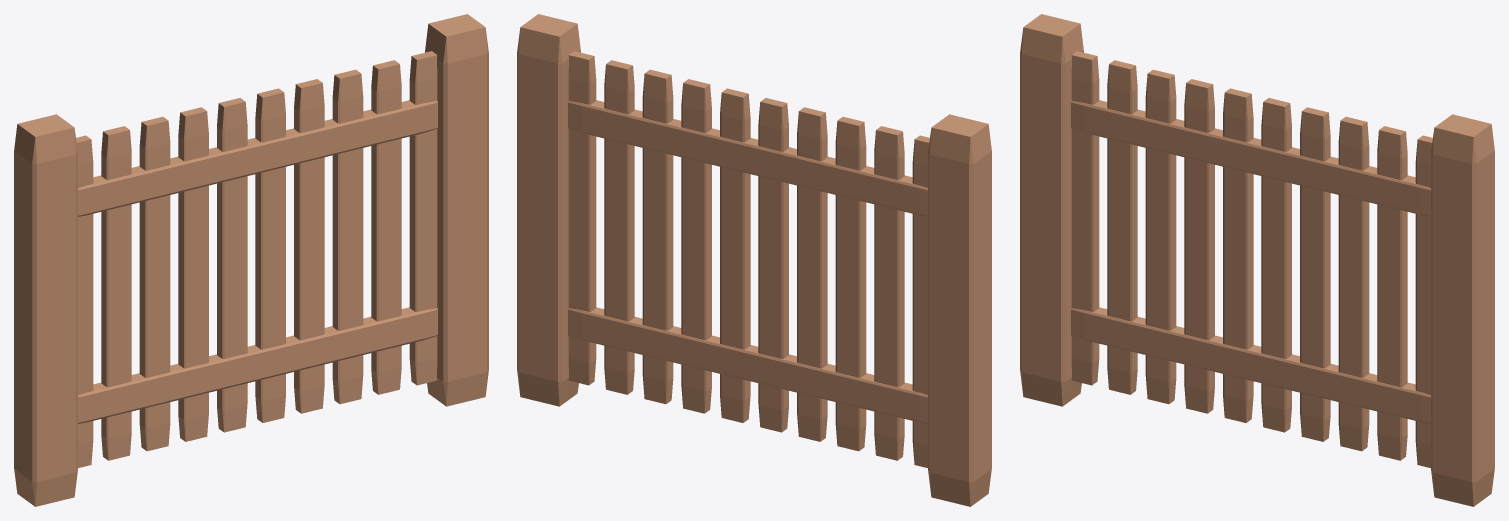
The model's file is b19_corrugated_metal_boundary.glb.
The picture shows the model from 3 angles, left to right: view 1: azimuth 30°, elevation 25°; view 2: azimuth 150°, elevation 25°; view 3: azimuth 330°, elevation 25°; orthographic projection.
Visible parts, largest first — view 1: b19_corrugated_metal_boundary; view 2: b19_corrugated_metal_boundary; view 3: b19_corrugated_metal_boundary.
Boxes of the visible parts, left/top/right/bottom form: b19_corrugated_metal_boundary: left=14, top=14, right=488, bottom=506; b19_corrugated_metal_boundary: left=517, top=14, right=991, bottom=506; b19_corrugated_metal_boundary: left=1020, top=14, right=1494, bottom=506.
Size of the model in its own units: 2.58 by 1.99 by 0.205.
